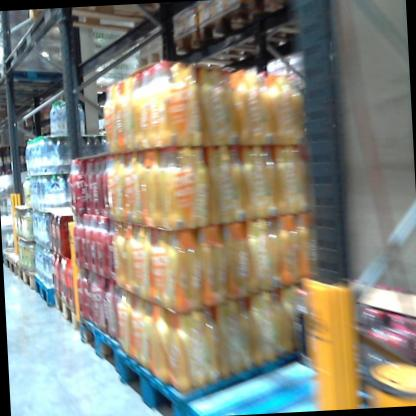pallet: (118, 318, 316, 416), (23, 2, 179, 45), (195, 5, 299, 65), (17, 261, 88, 339), (166, 21, 275, 71), (80, 308, 129, 390), (134, 39, 212, 78), (0, 59, 72, 94), (247, 0, 325, 30)
